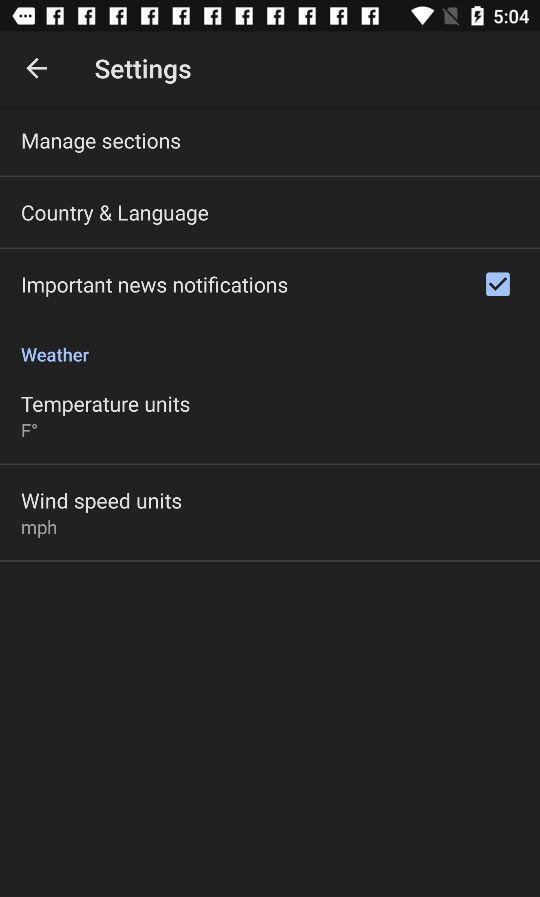CheckedTextView: (23, 272, 511, 299)
Icon: (26, 58, 50, 81)
Text: (23, 277, 289, 299), (22, 204, 210, 227), (21, 396, 191, 418), (22, 492, 183, 515), (23, 133, 182, 155), (96, 59, 193, 86), (21, 347, 91, 364), (22, 520, 58, 540), (22, 423, 39, 439)
UpperTaskBar: (1, 1, 540, 33)
